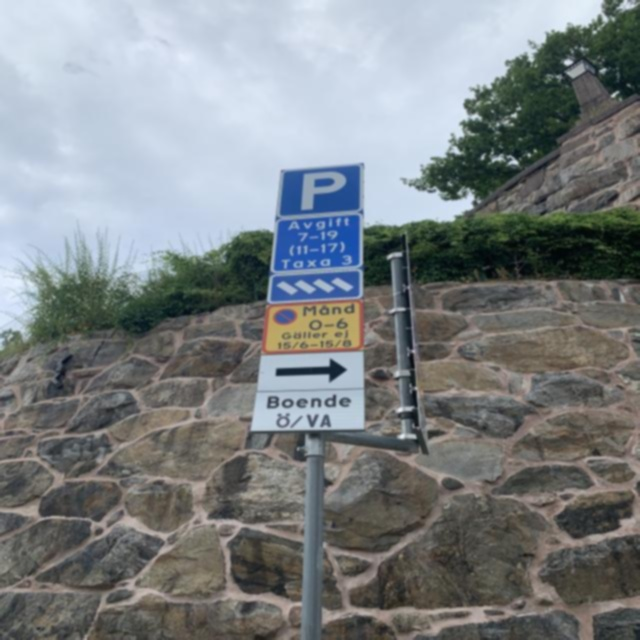P-skylt: (274, 162, 366, 220)
